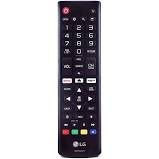remote control: (56, 0, 109, 159)
